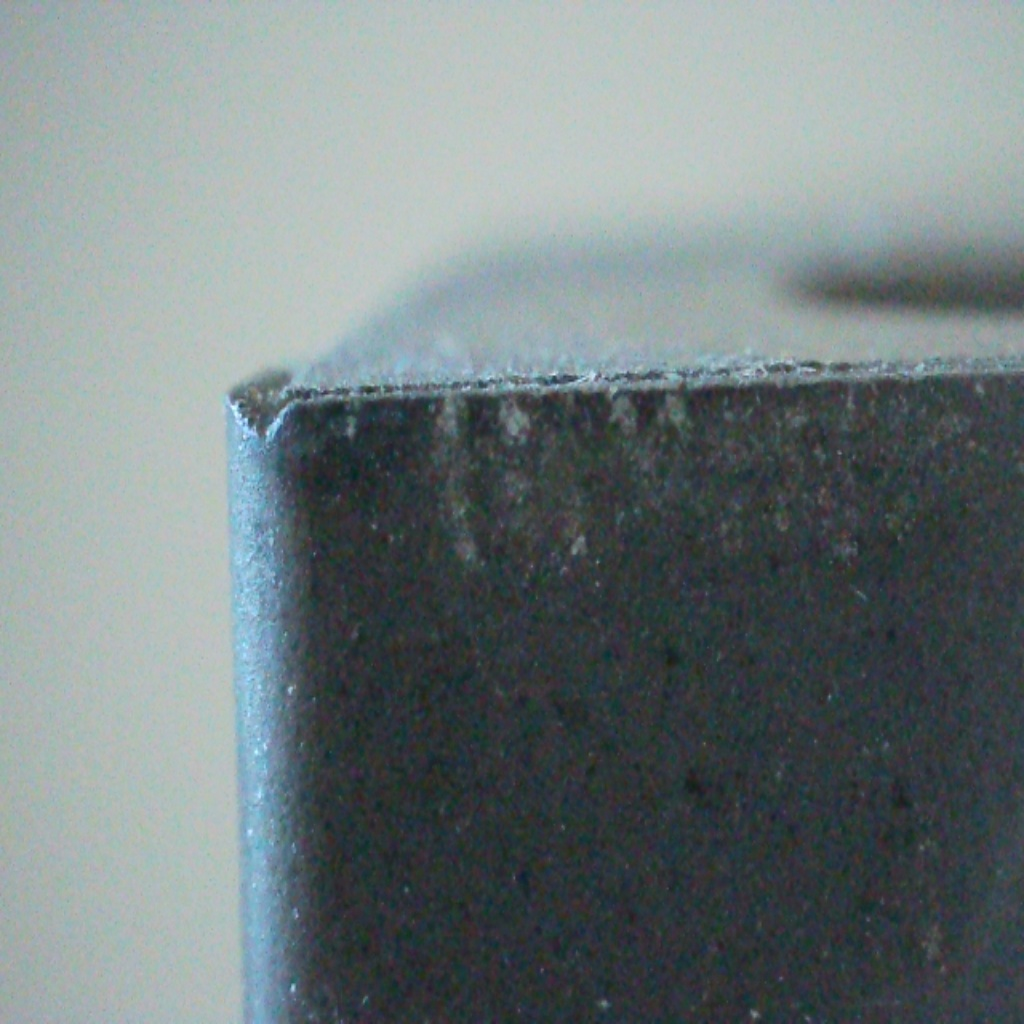flank_wear: (212, 383, 317, 453)
